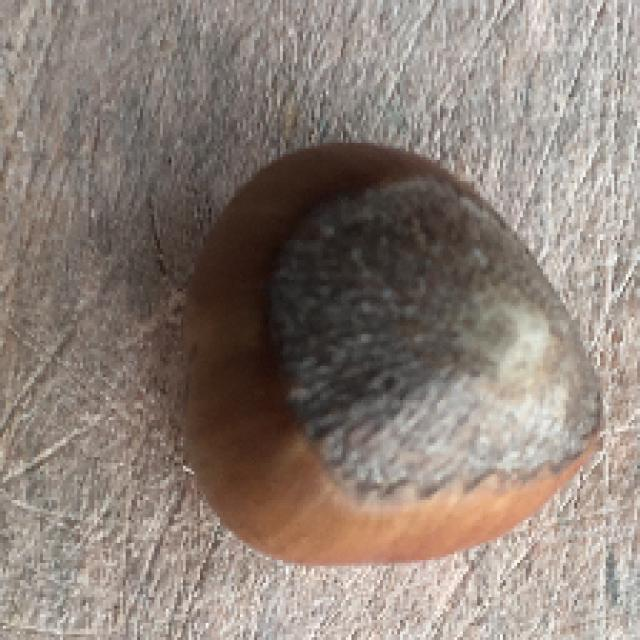qualityHazelnut: (163, 146, 607, 572)
